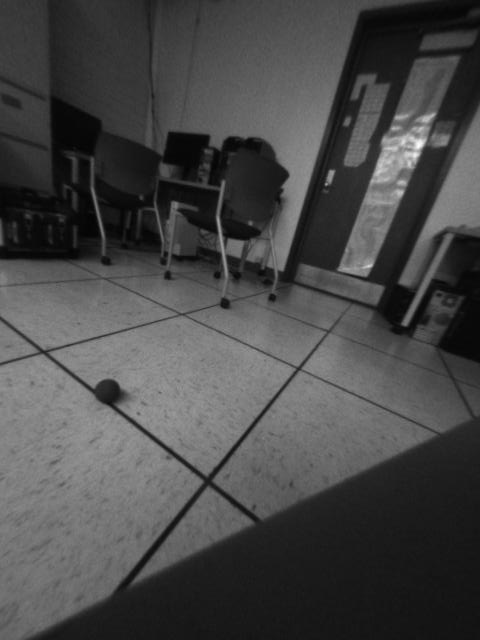dogtoy: (87, 371, 127, 406)
